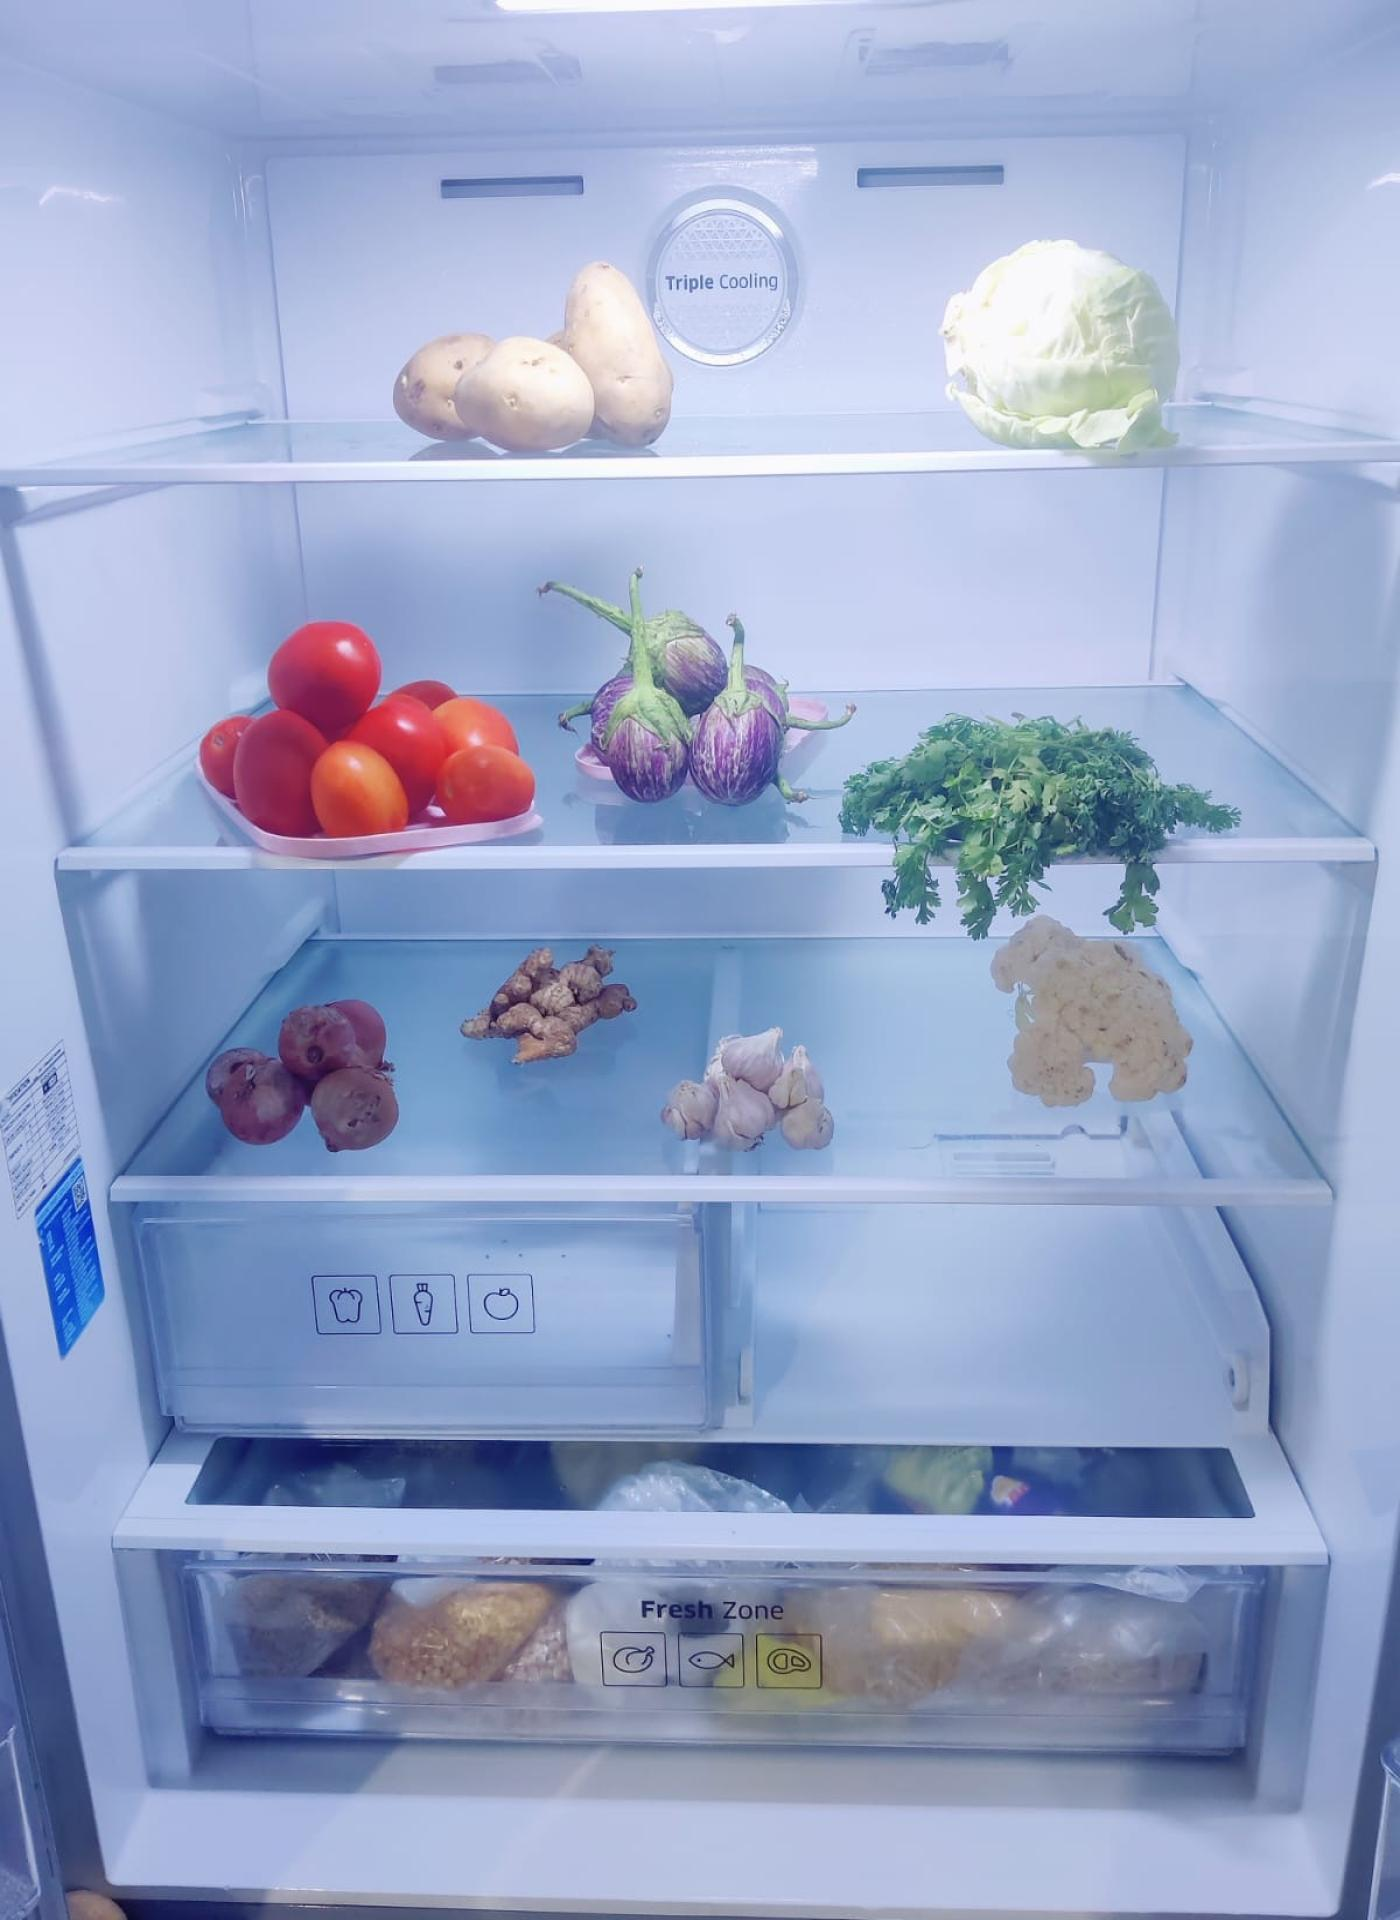brinjal: (593, 611, 796, 799)
cabbage: (942, 234, 1184, 437)
cauliflower: (994, 918, 1193, 1108)
coriander: (850, 714, 1236, 884)
garlic: (671, 1020, 841, 1149)
ginger: (462, 938, 635, 1058)
onion: (212, 993, 401, 1145)
potato: (400, 265, 678, 452)
tomato: (201, 613, 532, 830)
